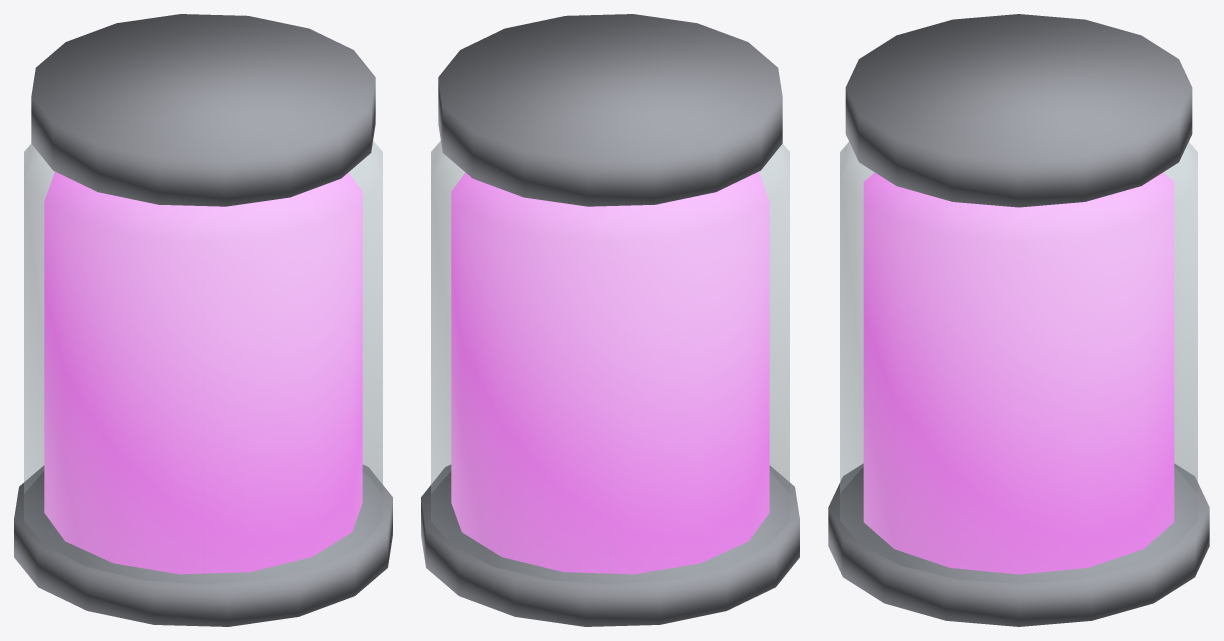
The model's file is specimen_jar_brain.glb.
3 renders of one model, left to right at view 1: azimuth 30°, elevation 25°; view 2: azimuth 150°, elevation 25°; view 3: azimuth 270°, elevation 25°, orthographic.
Parts seen in each view (by area): view 1: GD_specimen_jar_brain__m0, GD_specimen_jar_brain__m1, GD_specimen_jar_brain__m2; view 2: GD_specimen_jar_brain__m0, GD_specimen_jar_brain__m1, GD_specimen_jar_brain__m2; view 3: GD_specimen_jar_brain__m0, GD_specimen_jar_brain__m1, GD_specimen_jar_brain__m2.
Part boxes in pixels (<box>): GD_specimen_jar_brain__m0: <box>24,141,382,584</box>; GD_specimen_jar_brain__m1: <box>44,172,362,574</box>; GD_specimen_jar_brain__m2: <box>14,14,392,626</box>; GD_specimen_jar_brain__m0: <box>431,141,789,584</box>; GD_specimen_jar_brain__m1: <box>451,172,769,574</box>; GD_specimen_jar_brain__m2: <box>421,14,799,626</box>; GD_specimen_jar_brain__m0: <box>840,142,1197,583</box>; GD_specimen_jar_brain__m1: <box>863,172,1174,574</box>; GD_specimen_jar_brain__m2: <box>828,14,1209,626</box>.
Bounding box in the file's own units: 0.22 × 0.2925 × 0.22.
